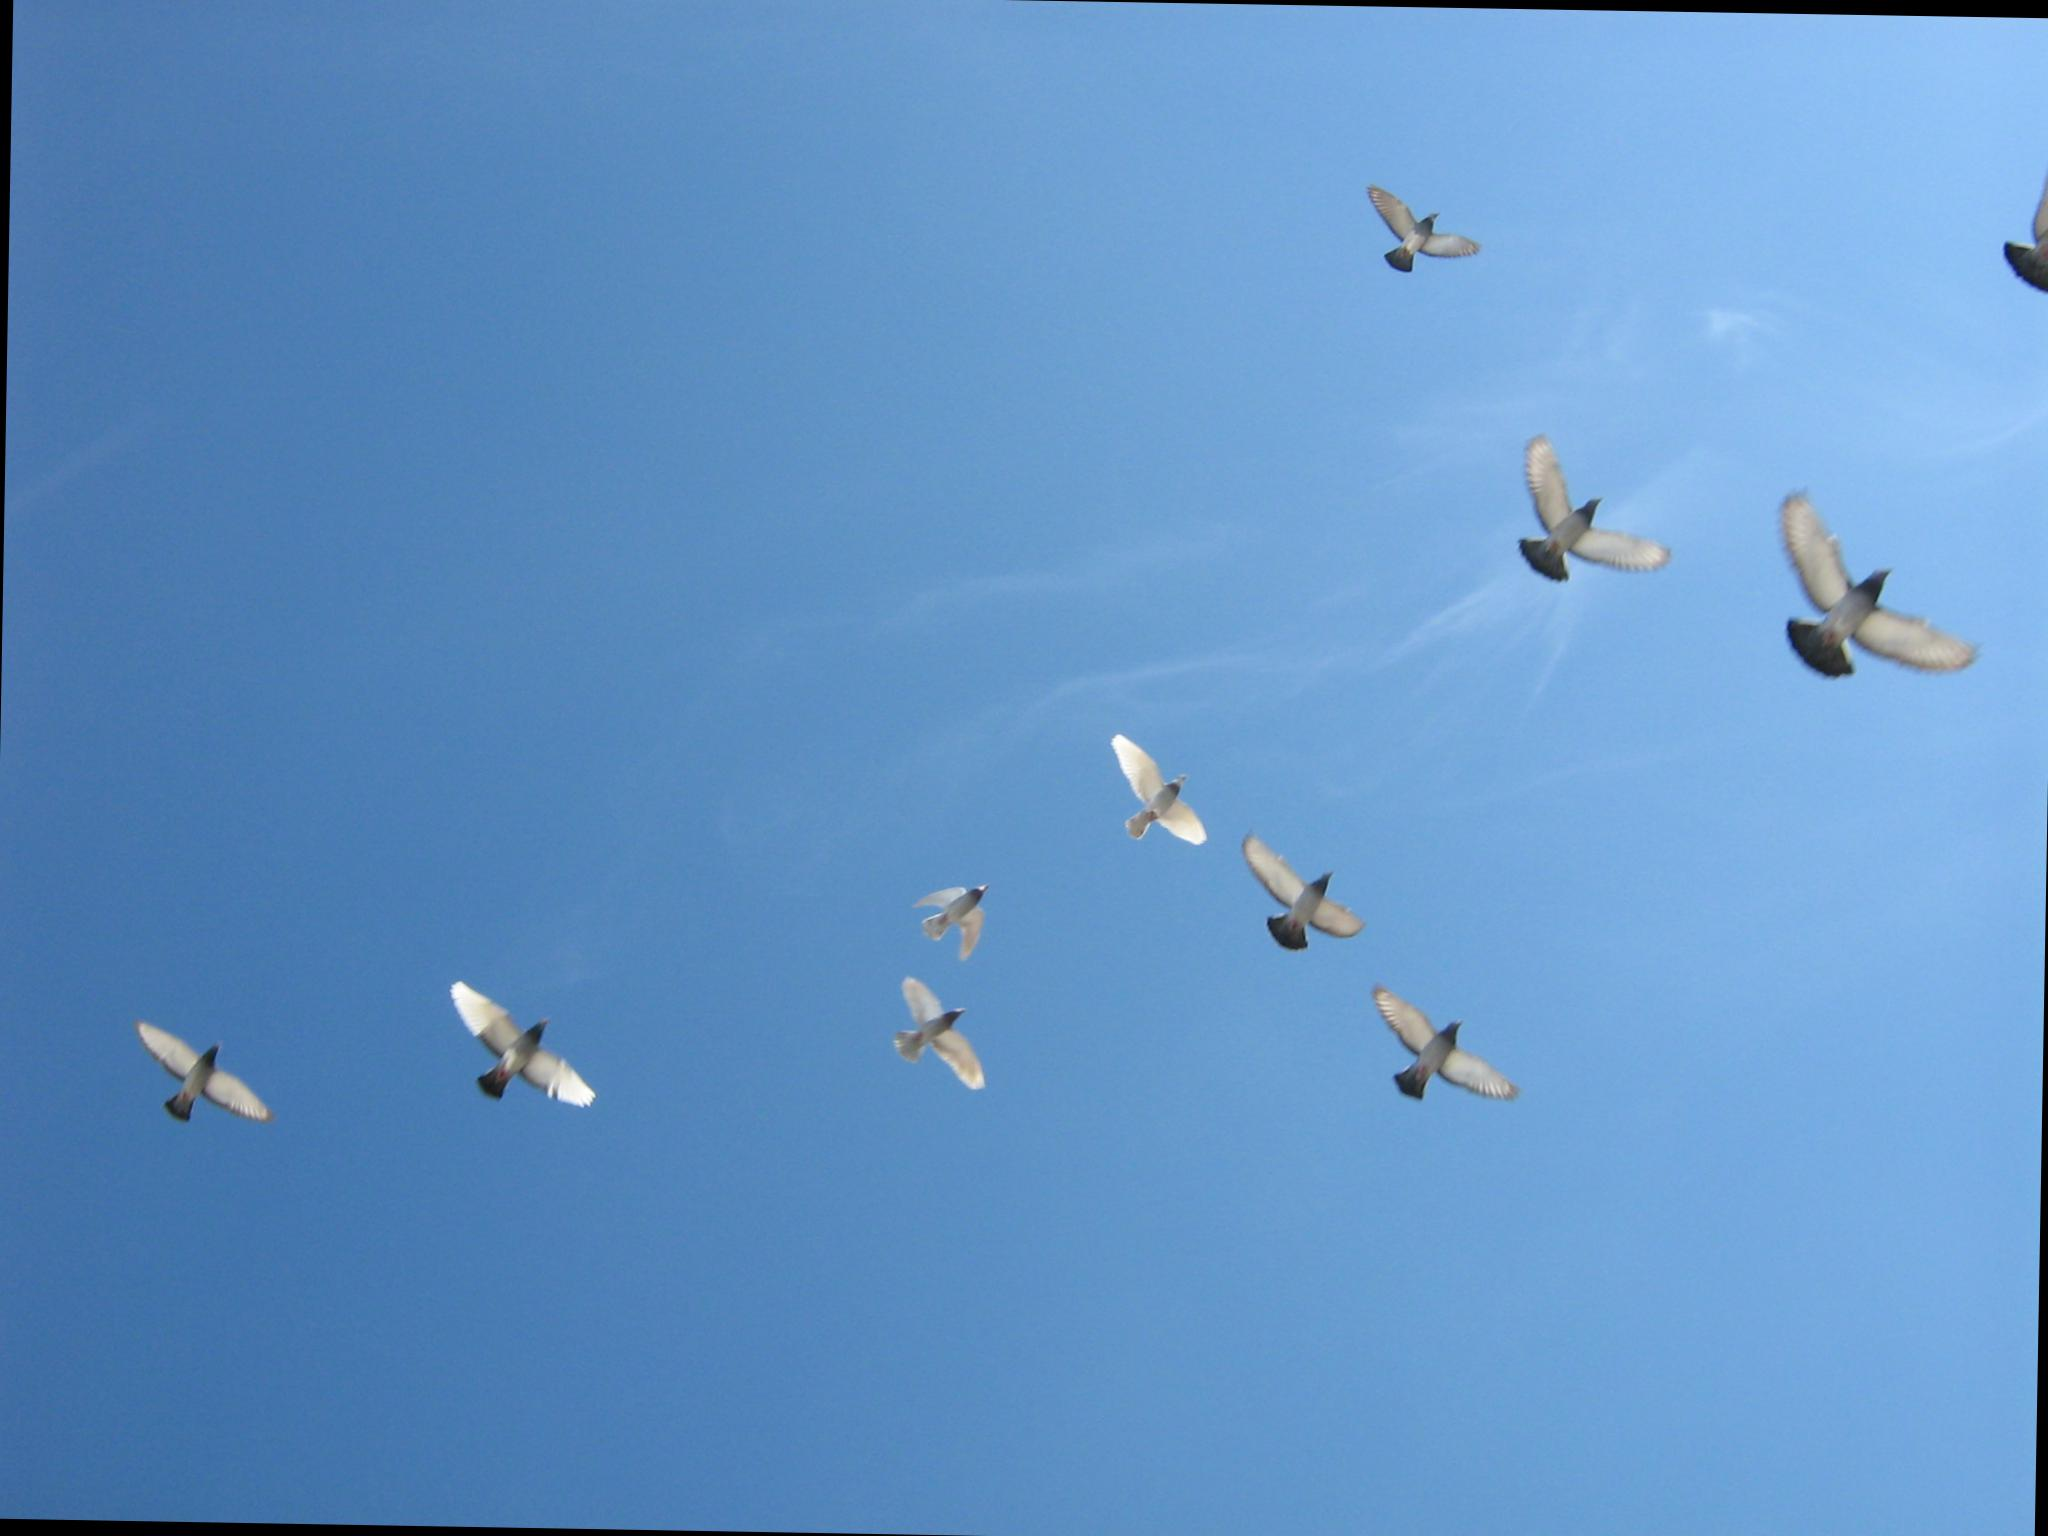bird: (1751, 471, 2006, 742), (397, 950, 608, 1149), (1493, 415, 1680, 632), (1351, 968, 1537, 1146), (106, 999, 295, 1165), (1342, 160, 1508, 298), (1077, 716, 1222, 871), (863, 954, 1001, 1099)
